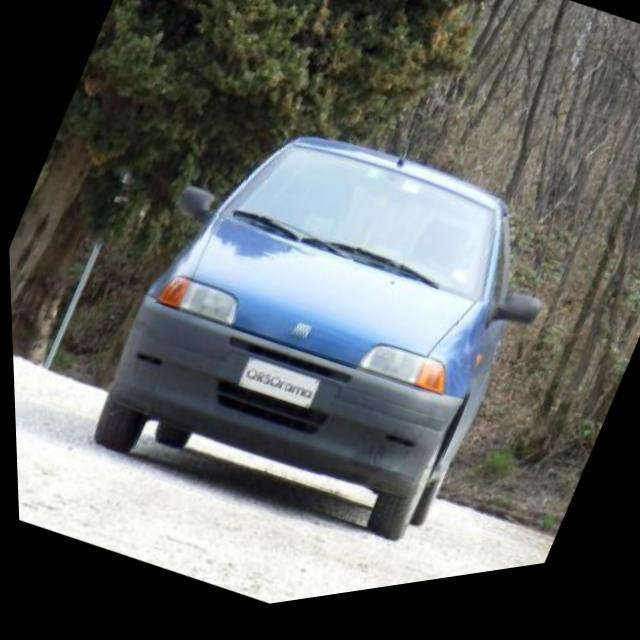license_plate: (232, 355, 318, 428)
